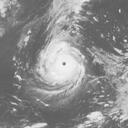cyclone: (36, 40, 86, 90)
